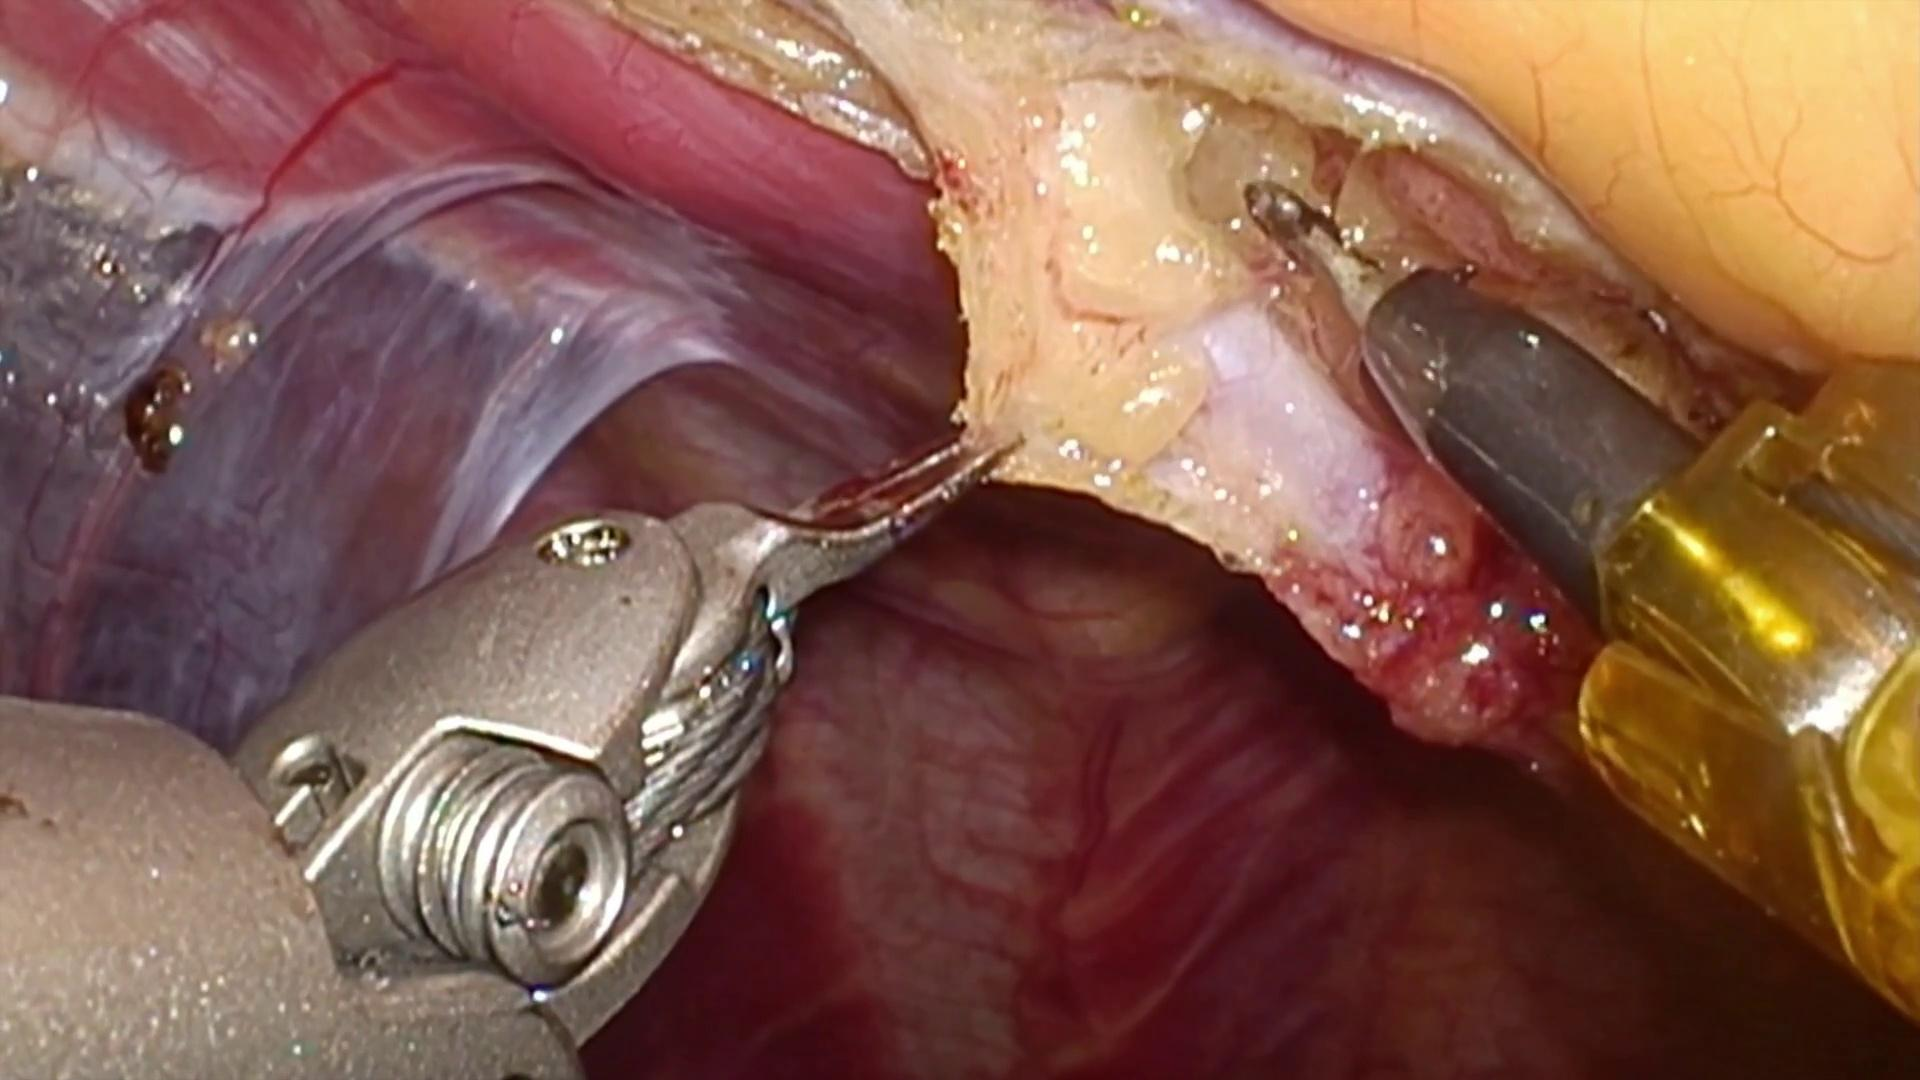Cautery_Spatula: (1246, 181, 1708, 654)
Debakey: (669, 417, 1044, 650)
